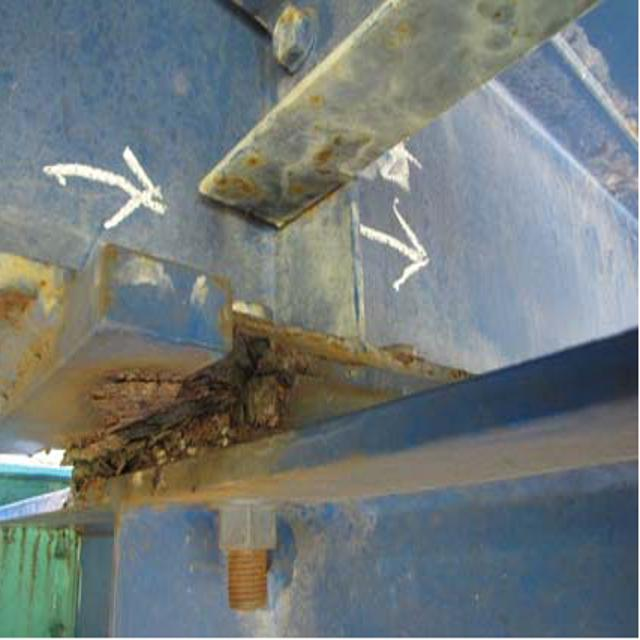corrosion: (20, 100, 453, 614)
